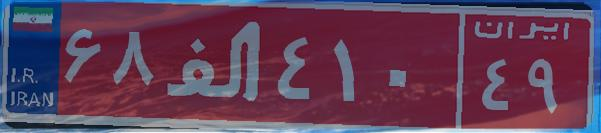0: (385, 28, 445, 110)
1: (330, 28, 385, 110)
4: (273, 28, 330, 110), (475, 38, 525, 113)
6: (57, 26, 110, 107)
8: (110, 28, 158, 105)
9: (525, 38, 570, 115)
الف: (158, 15, 273, 115)
